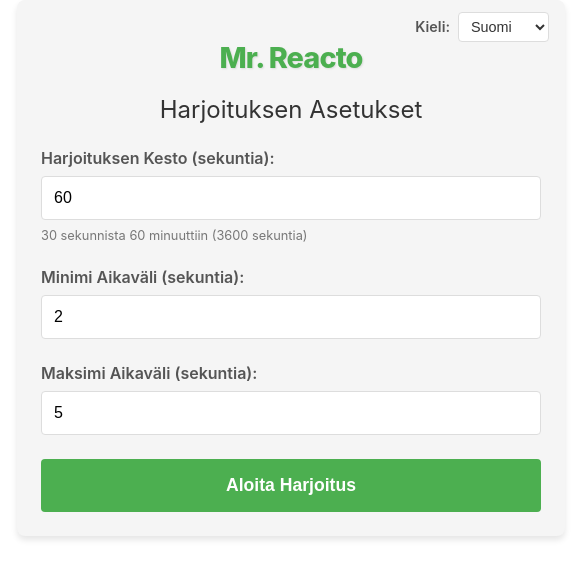
Test: SessionConfig Component › validates maximum interval is greater than minimum interval
This screenshot has width=583, height=583.
Set minimum interval
Replace the text in the number field labelled "Minimi Aikaväli (sekuntia):" with "5" at (291, 317), box [41, 295, 541, 339]
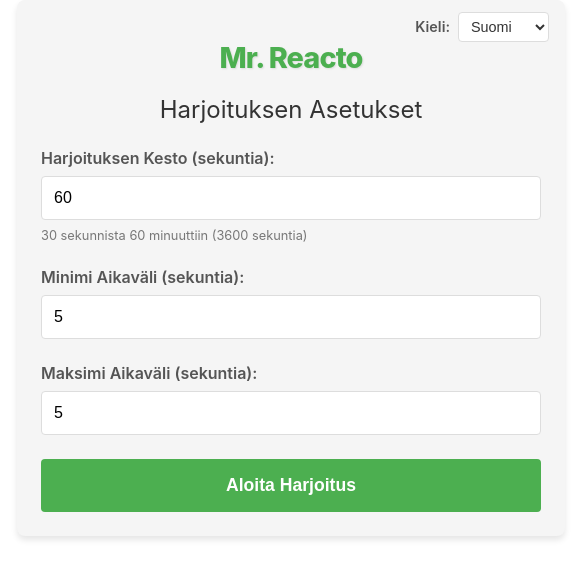
Test max interval less than min interval
Replace the text in the number field labelled "Maksimi Aikaväli (sekuntia):" with "4" at (291, 413), box [41, 391, 541, 435]
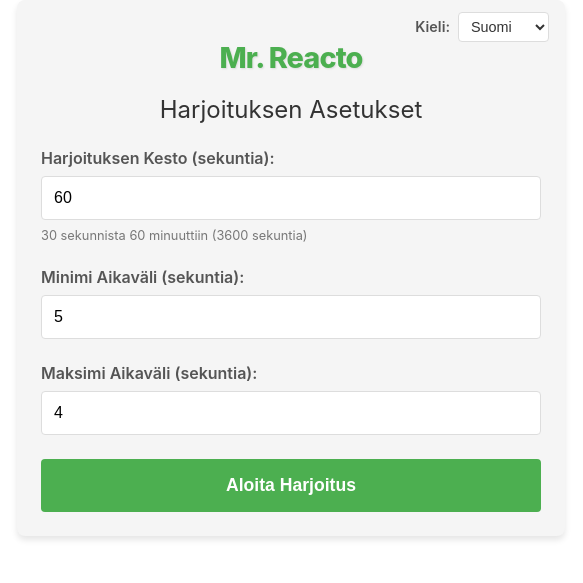
Leave the number field labelled "Maksimi Aikaväli (sekuntia):", box [41, 391, 541, 435]
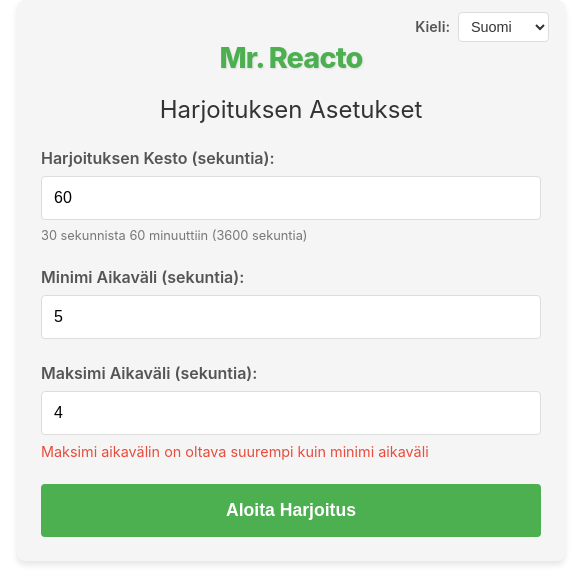
Result: the text "Maksimi aikavälin on oltava suurempi kuin minimi aikaväli" is shown at [41, 443, 429, 460]
Test valid max interval
Replace the text in the number field labelled "Maksimi Aikaväli (sekuntia):" with "10" at (291, 413), box [41, 391, 541, 435]
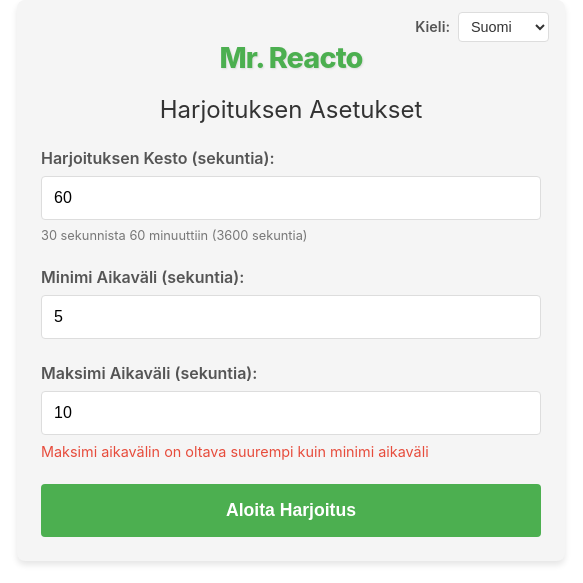
Leave the number field labelled "Maksimi Aikaväli (sekuntia):", box [41, 391, 541, 435]
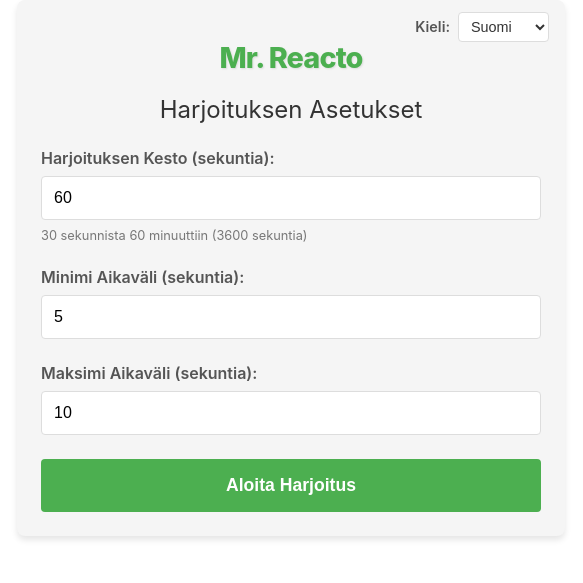
Result: the text "Maksimi aikavälin on oltava suurempi kuin minimi aikaväli" is gone
